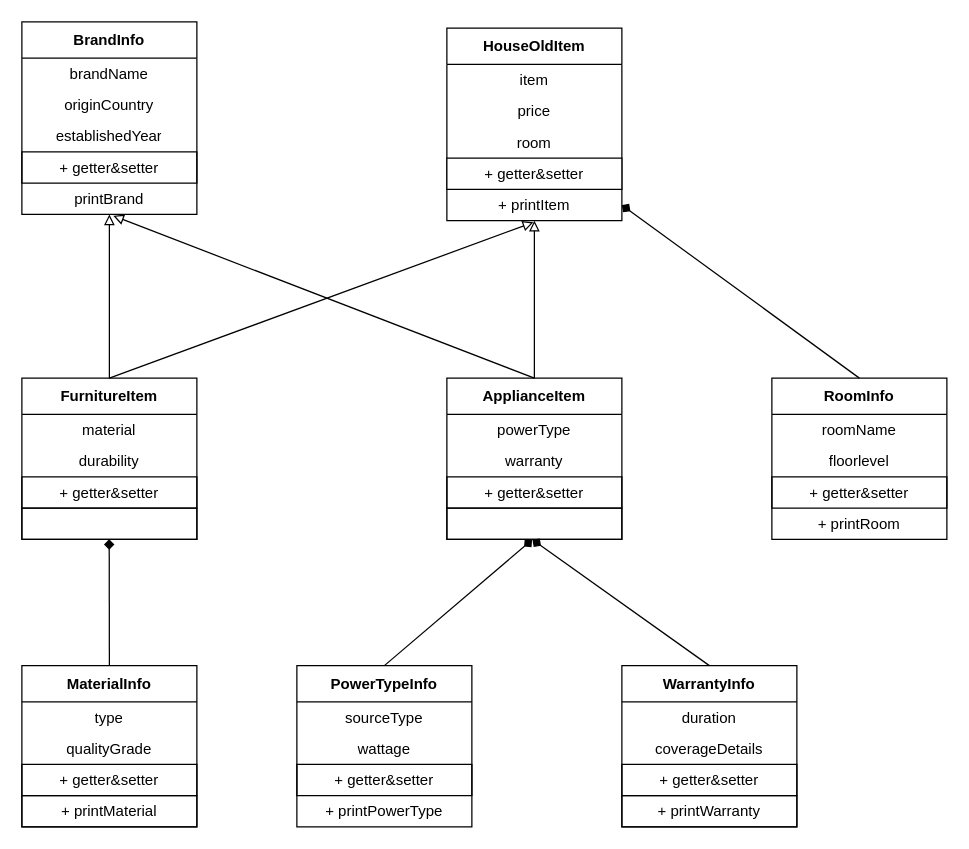
Image size: 969x849. Some labels were removed from this diagram. Each missing label, with the centre of its shape:
+ printAppliance: the point at 534,523
+ printFurniture: the point at 109,523
